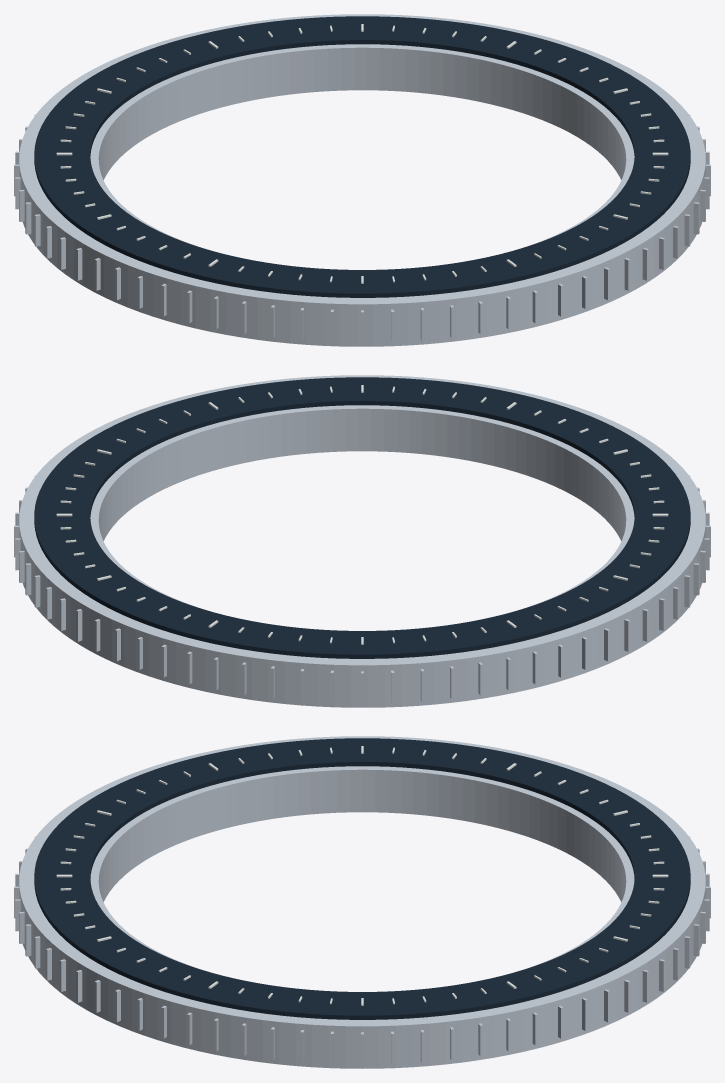
The model's file is bezel-dive-coin-edge-42.glb.
3 views of the same model, one above another, from view 1: azimuth 30°, elevation 25°; view 2: azimuth 150°, elevation 25°; view 3: azimuth 270°, elevation 25° (orthographic).
Visible parts, largest first — view 1: DD_BEZEL_CARRIER, DD_BEZEL_INSERT; view 2: DD_BEZEL_CARRIER, DD_BEZEL_INSERT; view 3: DD_BEZEL_CARRIER, DD_BEZEL_INSERT.
Part boxes in pixels (x1,y1,x2,y2): DD_BEZEL_CARRIER: (19, 14, 705, 346); DD_BEZEL_INSERT: (34, 16, 690, 297); DD_BEZEL_CARRIER: (19, 375, 705, 707); DD_BEZEL_INSERT: (34, 377, 690, 658); DD_BEZEL_CARRIER: (19, 736, 705, 1068); DD_BEZEL_INSERT: (34, 738, 690, 1019).
Size of the model in its own units: 41.62 by 3.19 by 41.62.
